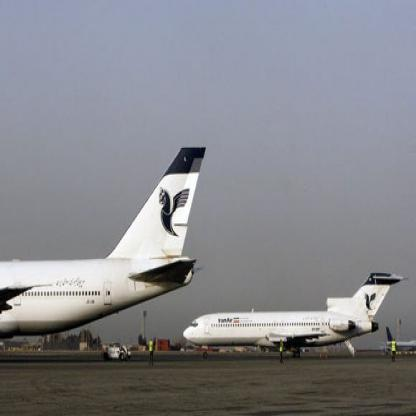CIV_Plane: (1, 134, 209, 383), (179, 265, 405, 377)
